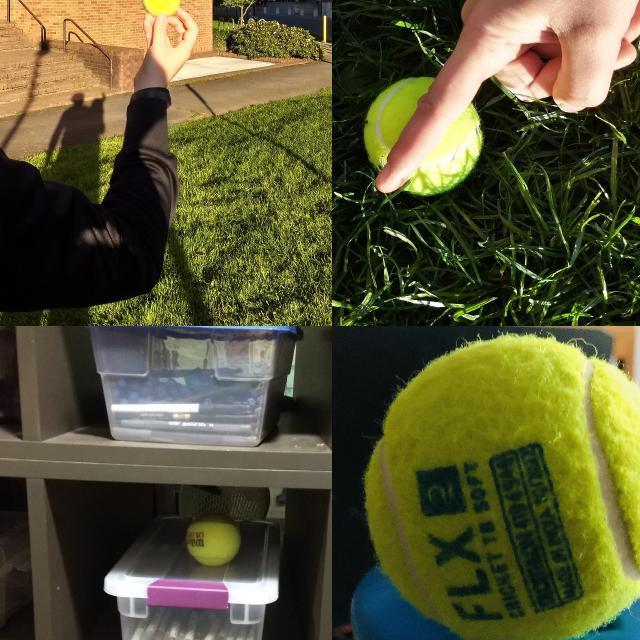tennis-ball: (366, 336, 639, 639), (364, 76, 483, 195), (185, 512, 241, 566), (140, 0, 182, 17)
